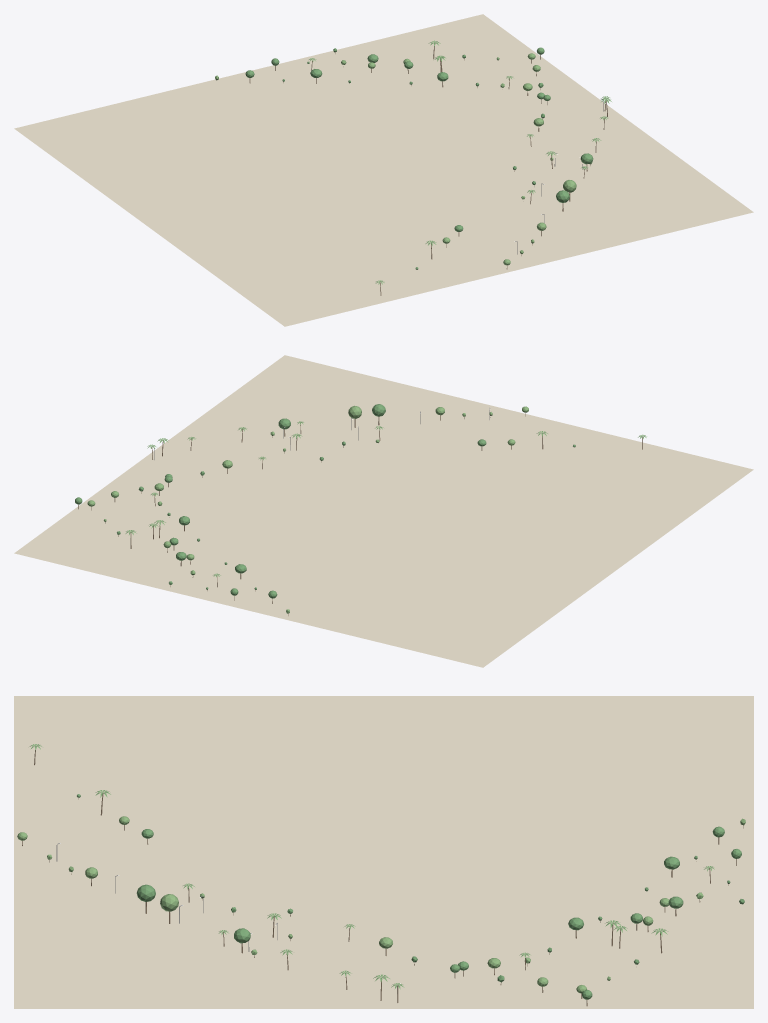
The model's file is nature_2_2.glb.
3 renders of one model, top to bottom at view 1: azimuth 30°, elevation 25°; view 2: azimuth 150°, elevation 25°; view 3: azimuth 270°, elevation 25°, orthographic. The views are drawn at different scales.
Visible parts, largest first — view 1: ground, foliage_a, foliage_b; view 2: ground, foliage_a, foliage_b; view 3: ground, foliage_a, foliage_b, trunk, palm_leaf.
Part boxes in pixels (left/top/right/bottom): ground: left=14, top=14, right=753, bottom=326; foliage_a: left=245, top=47, right=593, bottom=269; foliage_b: left=215, top=53, right=592, bottom=265; ground: left=14, top=355, right=753, bottom=667; foliage_a: left=75, top=404, right=575, bottom=598; foliage_b: left=87, top=405, right=528, bottom=613; ground: left=14, top=696, right=753, bottom=1008; foliage_a: left=77, top=794, right=744, bottom=999; foliage_b: left=17, top=816, right=745, bottom=993; trunk: left=22, top=750, right=743, bottom=1006; palm_leaf: left=29, top=744, right=714, bottom=989.
Size of the model in its own units: 250 by 10.93 by 250.
